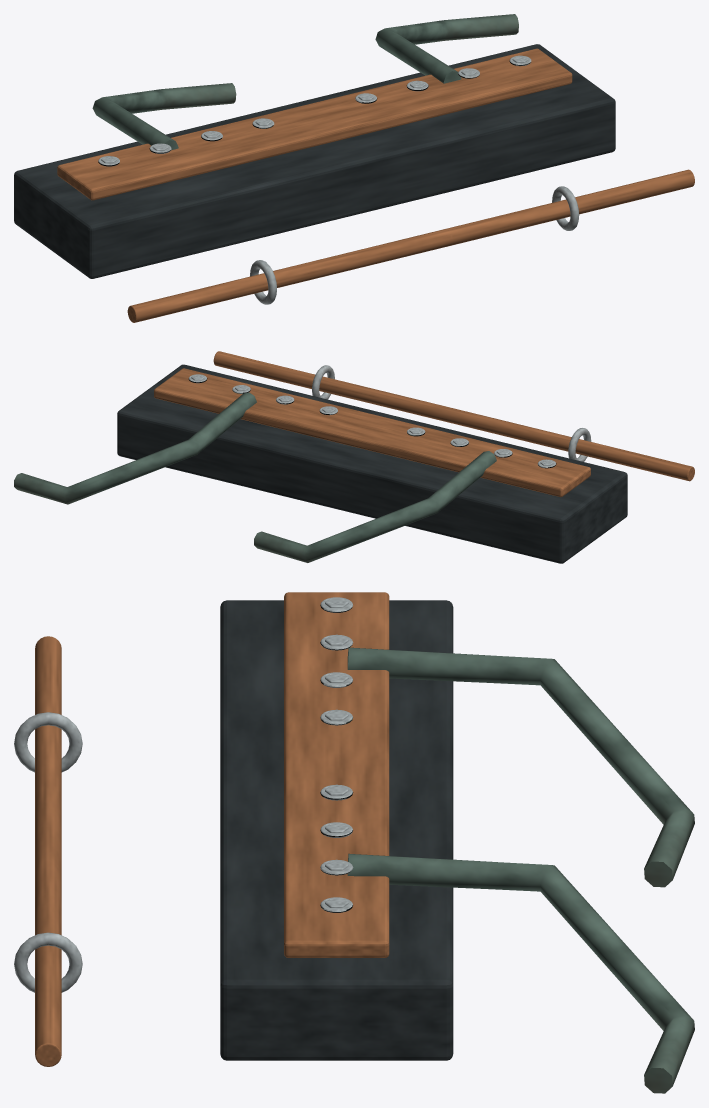
File: GR_GroundingKit_01.glb
3 views of the same model, one above another, from view 1: azimuth 30°, elevation 25°; view 2: azimuth 150°, elevation 25°; view 3: azimuth 270°, elevation 25° (orthographic). The views are drawn at different scales.
Visible parts, largest first — view 1: Static; view 2: Static; view 3: Static.
Boxes of the visible parts, x1,y1,x2,y2 form: Static: [14, 14, 694, 322]; Static: [14, 351, 694, 563]; Static: [14, 592, 694, 1093].
Bounding box in the file's own units: 0.9178 × 0.131 × 0.614.
1 material, 1 textured.
